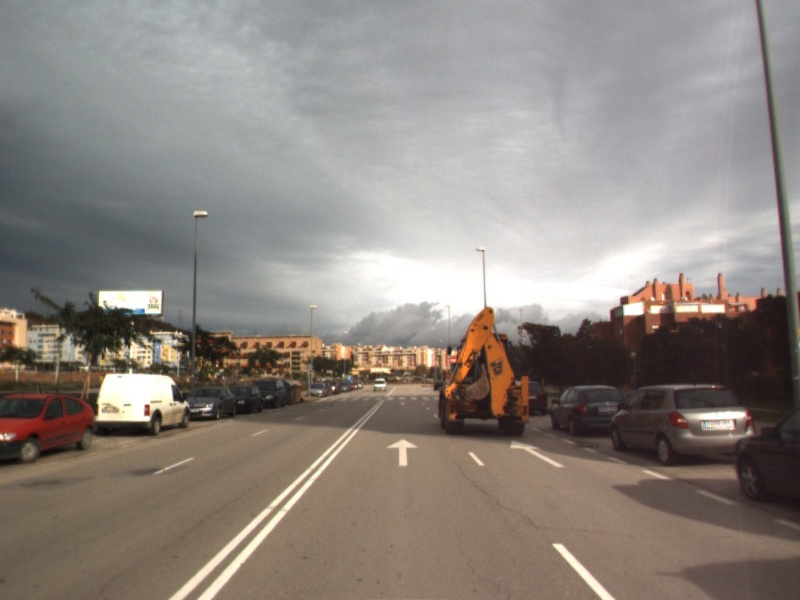STRAIGHT: (509, 438, 567, 469), (385, 437, 421, 468)
